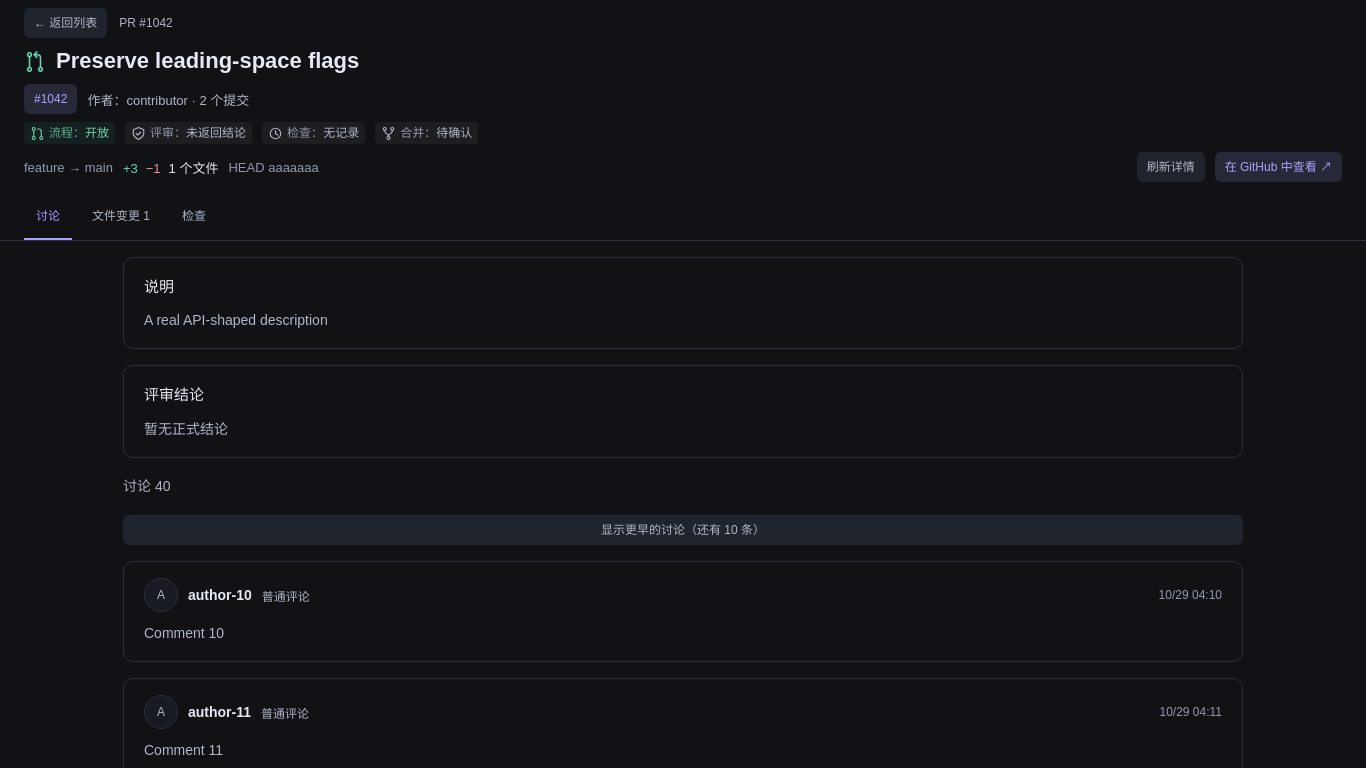
limits initial discussion rendering while preserving access to earlier entries
The image size is (1366, 768).
Check: the heading "讨论 40" is shown, box [123,478,170,494]
Check: the heading "author-0" is not shown
Click the button "显示更早的讨论（还有 10 条）" at (683, 530), box [123,515,1243,545]
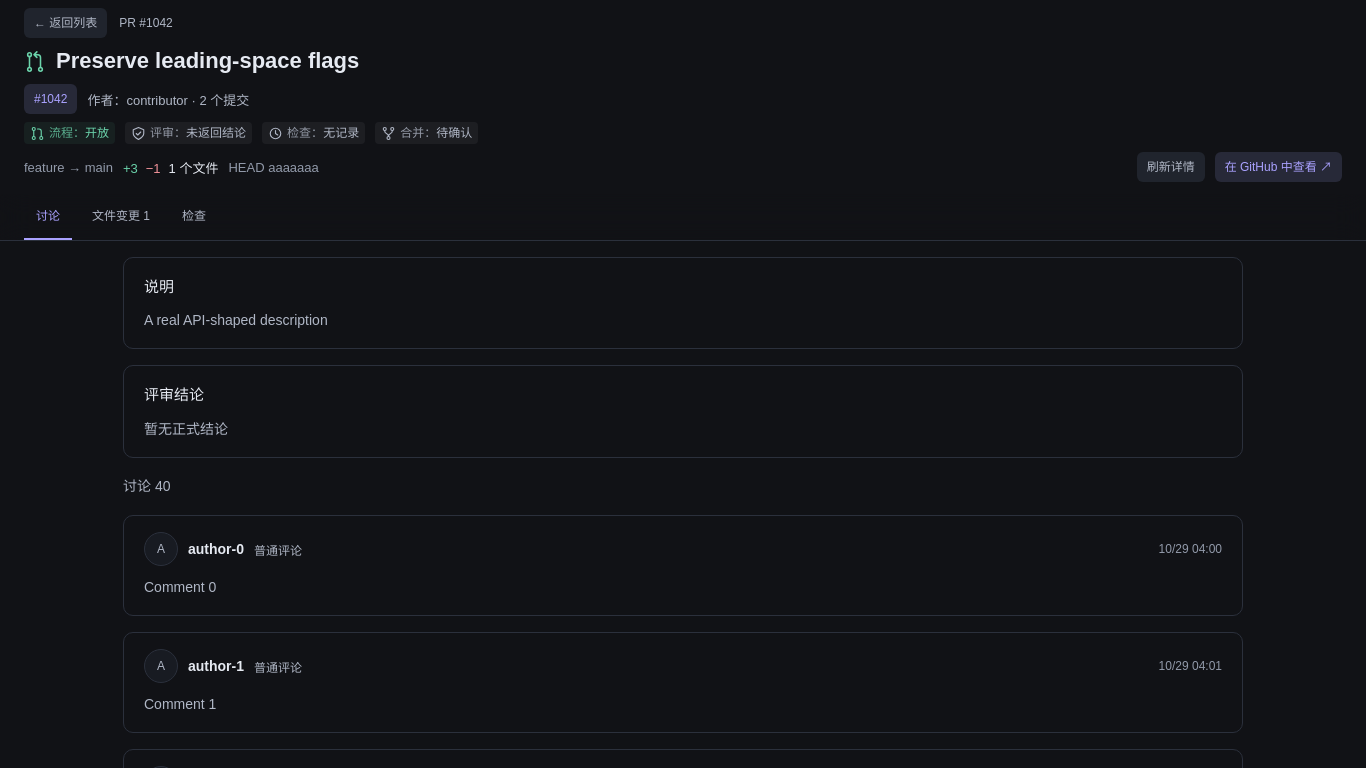
Check: the heading "author-0" is shown, box [188,537,244,562]
Check: the number of headings "author-0" is 40
Check: the text "Comment 0" is shown, box [144,579,216,595]
